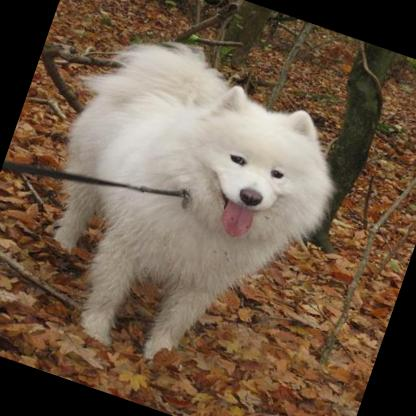Samoyed: (11, 15, 362, 403)
